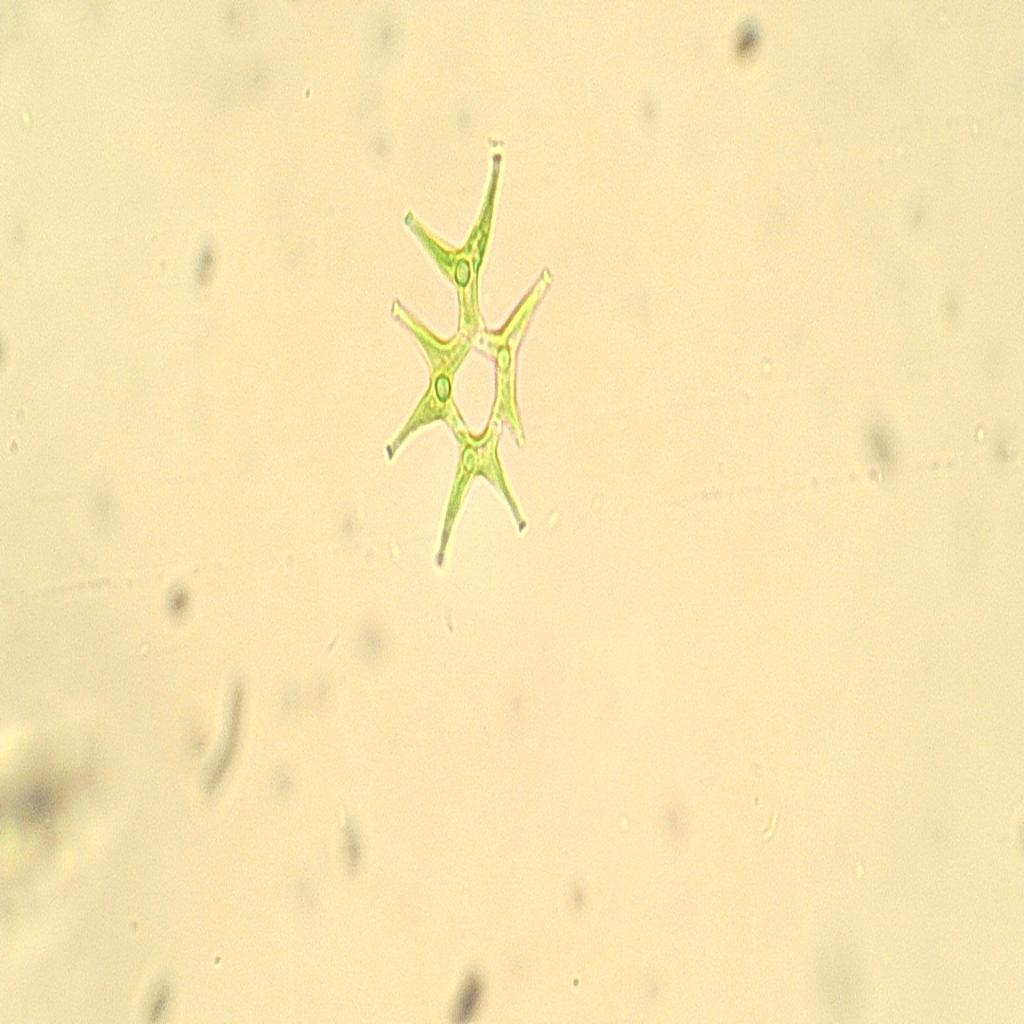Pediastrum_CT: (376, 146, 574, 586)
